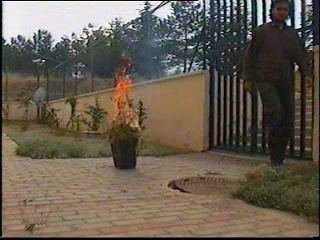smoke: (126, 26, 172, 88)
